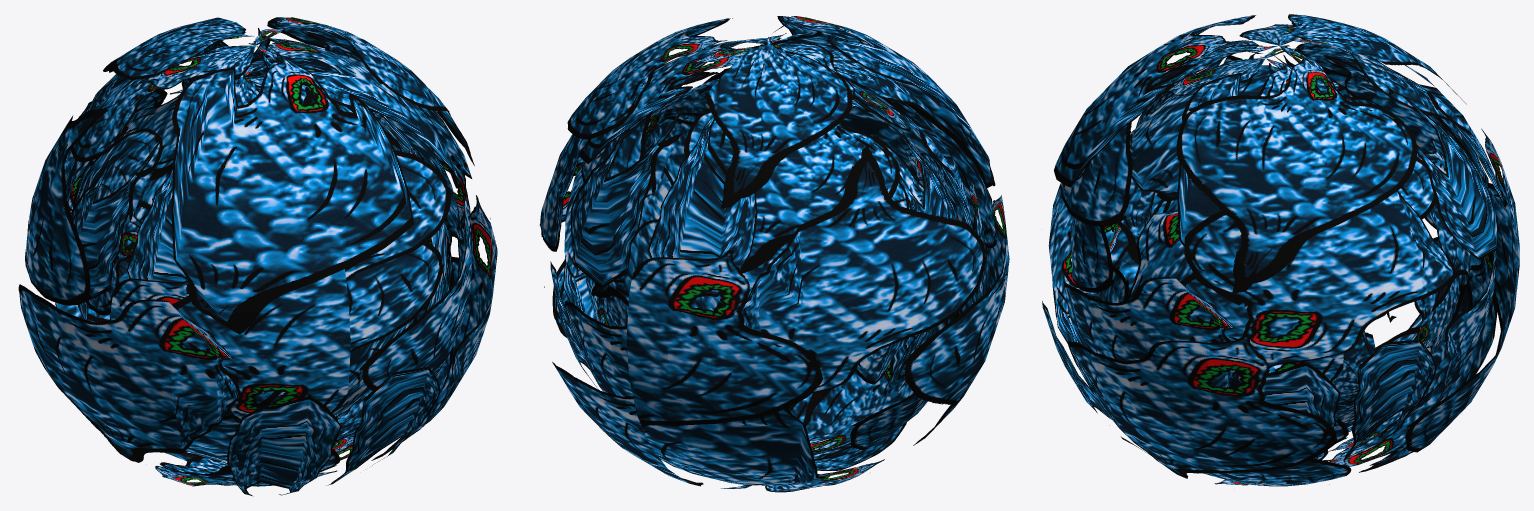
File: MOONdwithtextures.fbx
The picture shows the model from 3 angles, left to right: view 1: azimuth 30°, elevation 25°; view 2: azimuth 150°, elevation 25°; view 3: azimuth 270°, elevation 25°; orthographic projection.
Parts seen in each view (by area): view 1: Sphere; view 2: Sphere; view 3: Sphere.
Part boxes in pixels (<box>): Sphere: <box>18,17,497,496</box>; Sphere: <box>539,16,1009,492</box>; Sphere: <box>1042,14,1519,486</box>.
Bounding box in the file's own units: 1.99 × 2 × 1.99.
Materials: 1 (1 with a texture image).
